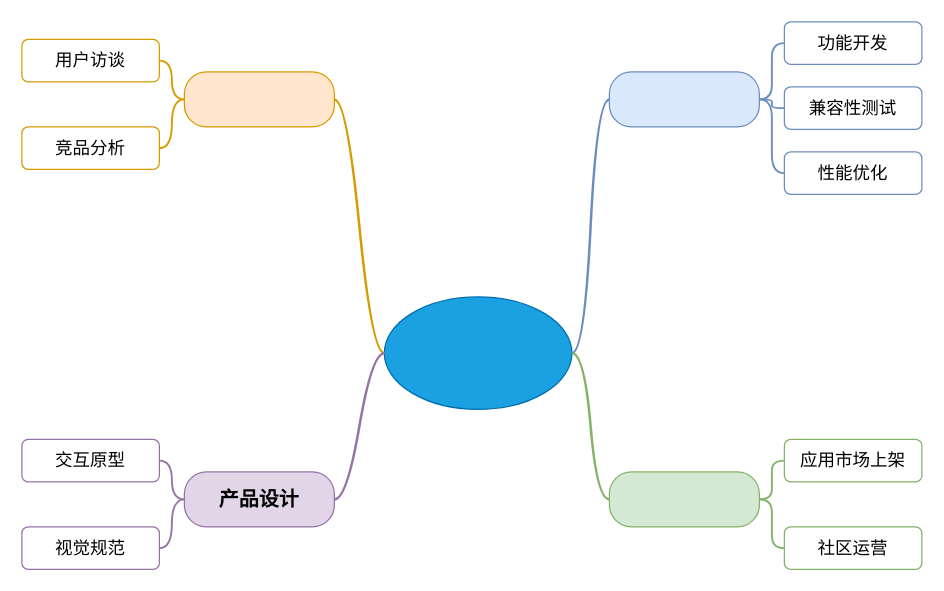
This 944x591 diagram has some shape labels left out. Each missing label, with the centre of its shape:
上线推广: (683,499)
市场调研: (258,99)
新品发布 计划: (477,352)
研发测试: (683,99)
